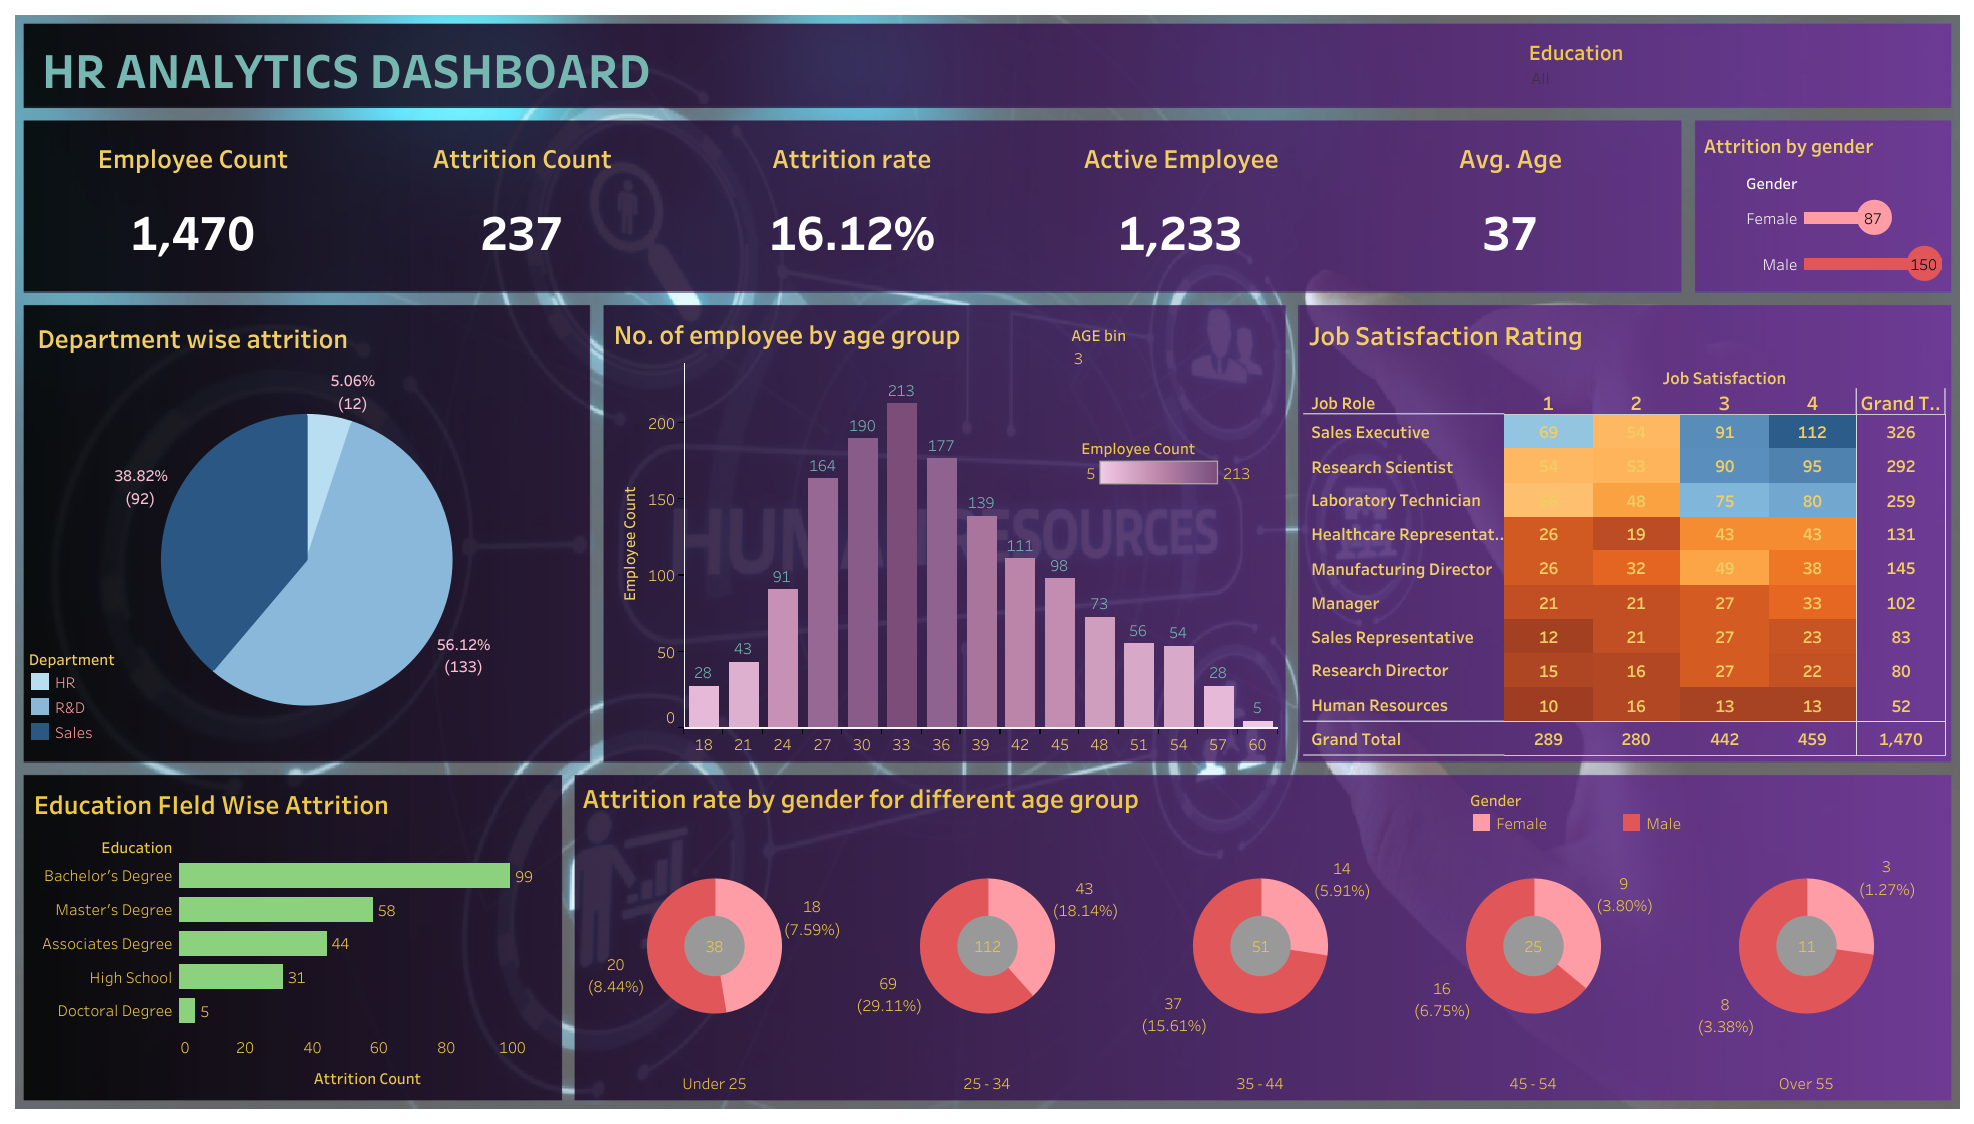

This screenshot's page, from the dashboard's own definition file:
{"tool":"tableau","page":{"name":"HR analytics dashboard","canvas":[1580,900],"ordinal":0},"visuals":[{"type":"image","param":"Image/HR background.pptx22_page-0001.jpg","box":[8,8,1564,884]},{"type":"text","box":[31,27,973,54]},{"type":"filter","title":"Department wise attrition","param":"[federated.0diufv71t9gsig1e7jxgr0mz392p].[none:Education:nk]","box":[1223,29,271,50]},{"type":"worksheet","title":"Attrition by gender","mark":"Bar","rows":["Gender"],"cols":["Calculation_257268151787745280","Calculation_257268151787745280"],"box":[1359,99,200,130]},{"type":"worksheet","title":"KPI","mark":"Automatic","box":[23,100,1317,130]},{"type":"worksheet","title":"No. of employee by age group","mark":"Automatic","rows":["Employee Count"],"cols":["Age (bin)"],"box":[487,247,535,357]},{"type":"worksheet","title":"Job Satisfaction Rating","mark":"Square","rows":["Job Role"],"cols":["Job Satisfaction"],"box":[1043,248,514,357]},{"type":"worksheet","title":"Department wise attrition","mark":"Pie","box":[26,250,438,353]},{"type":"parameter","param":"[Parameters].[Parameter 1]","box":[857,258,160,71]},{"type":"legend","title":"No. of employee by age group","param":"[federated.0diufv71t9gsig1e7jxgr0mz392p].[sum:Employee Count:qk]","box":[865,345,140,53]},{"type":"legend","title":"Department wise attrition","param":"[federated.0diufv71t9gsig1e7jxgr0mz392p].[none:Department:nk]","box":[22,516,122,85]},{"type":"worksheet","title":"Attrition rate by gender for different age group","mark":"Pie","rows":["Calculation_257268151831568388","Calculation_257268151831568388"],"cols":["CF_age band"],"box":[462,618,1092,257]},{"type":"worksheet","title":"Education FIeld Wise Attrition ","mark":"Bar","rows":["Education"],"cols":["Calculation_257268151787745280"],"box":[23,623,422,255]},{"type":"legend","title":"Attrition rate by gender for different age group","param":"[federated.0diufv71t9gsig1e7jxgr0mz392p].[none:Gender:nk]","box":[1175,629,278,50]}]}

Visuals, with their boxes in screenshot pixels (x1, y1, x2, y2), scaled from the page's 1580x900 canvas onto the 1974x1124 screenshot:
image: l=10, t=10, r=1964, b=1114
text: l=39, t=34, r=1254, b=101
"Department wise attrition" filter: l=1528, t=36, r=1867, b=99
"Attrition by gender" worksheet (Bar marks): l=1698, t=124, r=1948, b=286
"KPI" worksheet: l=29, t=125, r=1674, b=287
"No. of employee by age group" worksheet: l=608, t=308, r=1277, b=754
"Job Satisfaction Rating" worksheet (Square marks): l=1303, t=310, r=1945, b=756
"Department wise attrition" worksheet (Pie marks): l=32, t=312, r=580, b=753
parameter: l=1071, t=322, r=1271, b=411
"No. of employee by age group" legend: l=1081, t=431, r=1256, b=497
"Department wise attrition" legend: l=27, t=644, r=180, b=751
"Attrition rate by gender for different age group" worksheet (Pie marks): l=577, t=772, r=1942, b=1093
"Education FIeld Wise Attrition " worksheet (Bar marks): l=29, t=778, r=556, b=1097
"Attrition rate by gender for different age group" legend: l=1468, t=786, r=1815, b=848
